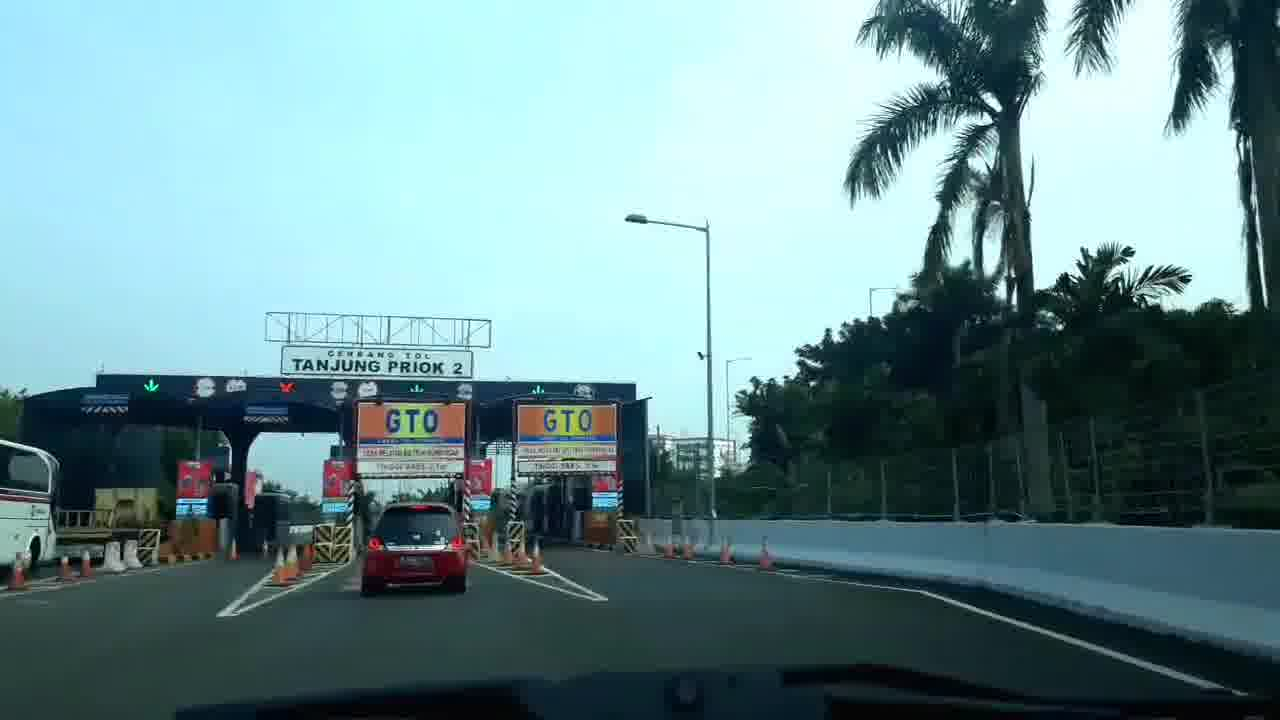plate_positive: (398, 555, 433, 569)
